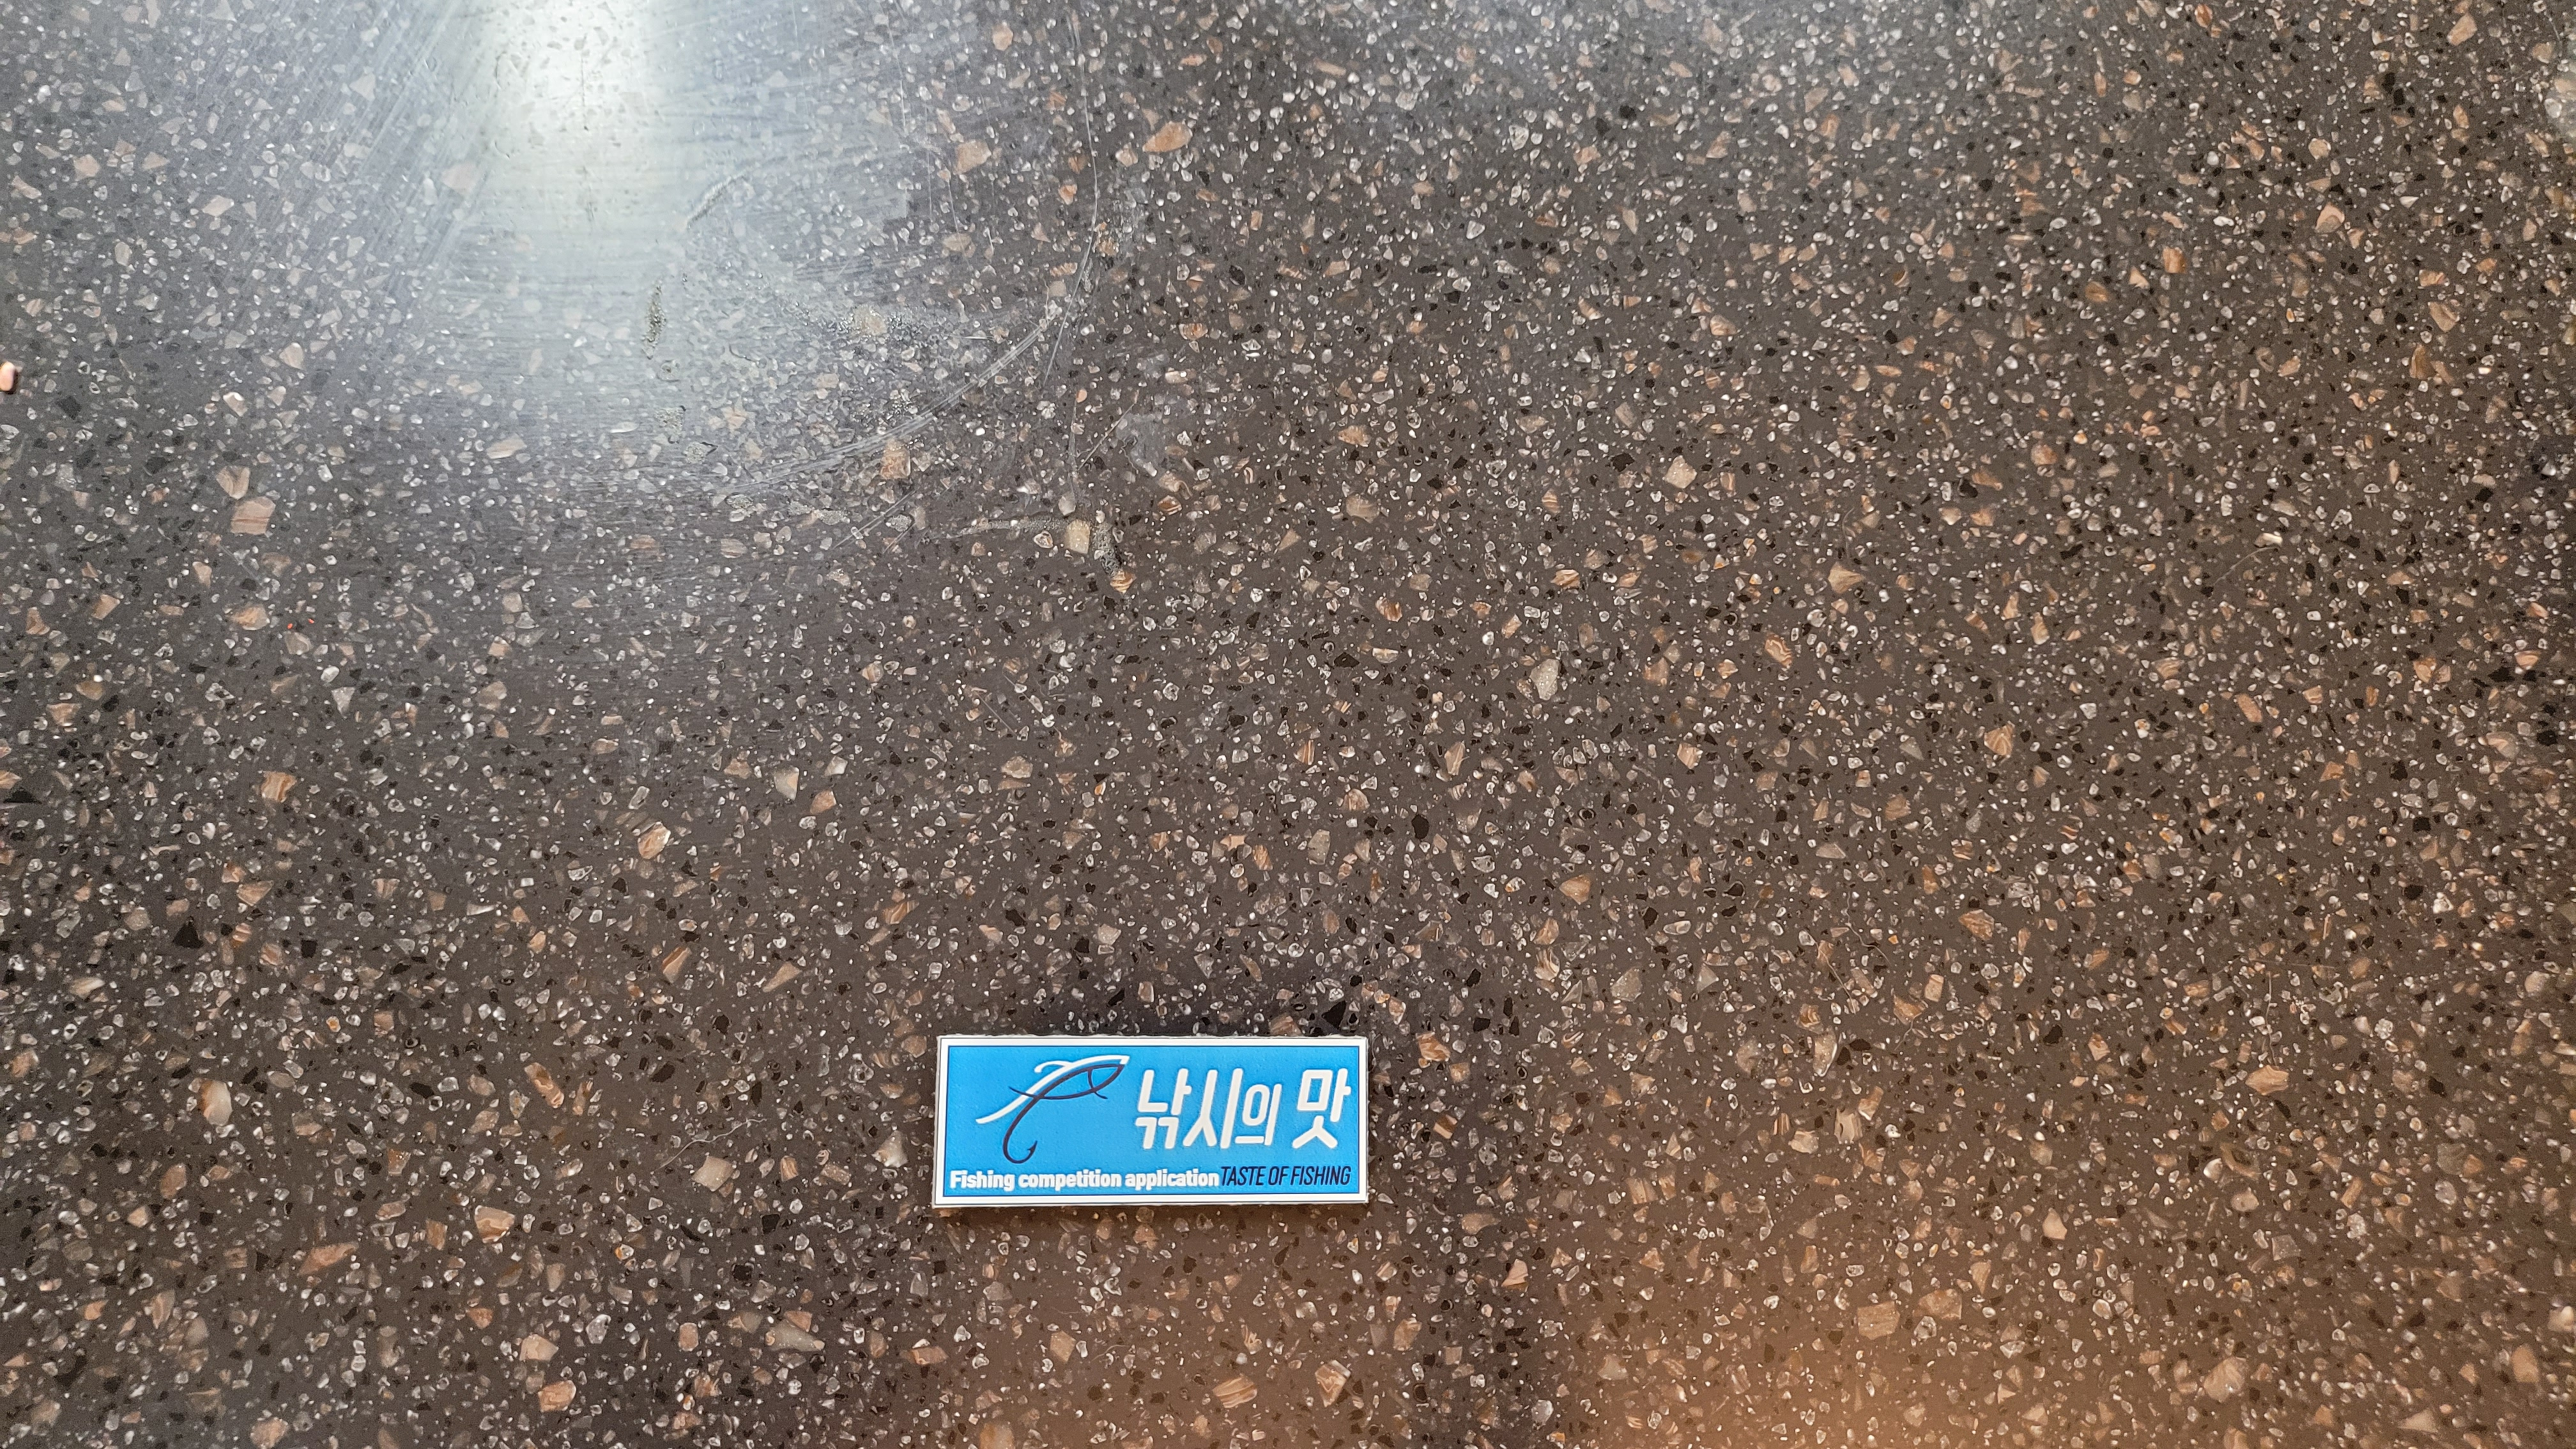tag: (931, 1033, 1369, 1203)
